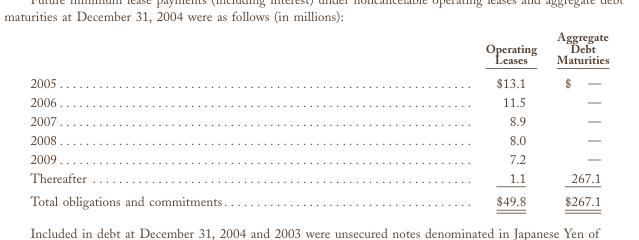table: (29, 28, 608, 208)
table column: (29, 28, 478, 208), (478, 28, 545, 208), (545, 28, 608, 208)
table column header: (29, 28, 608, 70)
table row: (29, 28, 608, 70), (29, 167, 608, 189), (29, 70, 608, 91), (29, 91, 608, 110), (29, 110, 608, 129), (29, 129, 608, 148), (29, 148, 608, 167), (29, 189, 608, 208)
